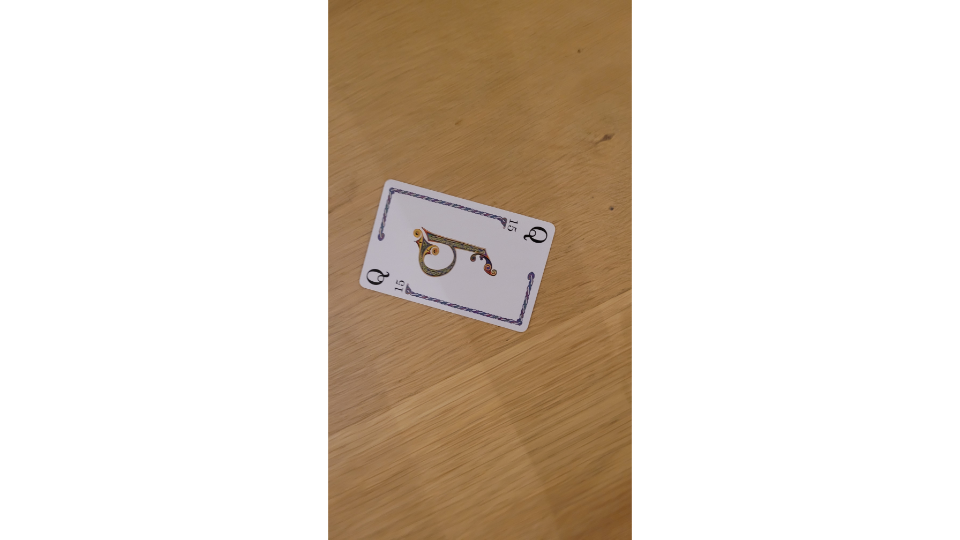Q: (357, 175, 559, 336)
